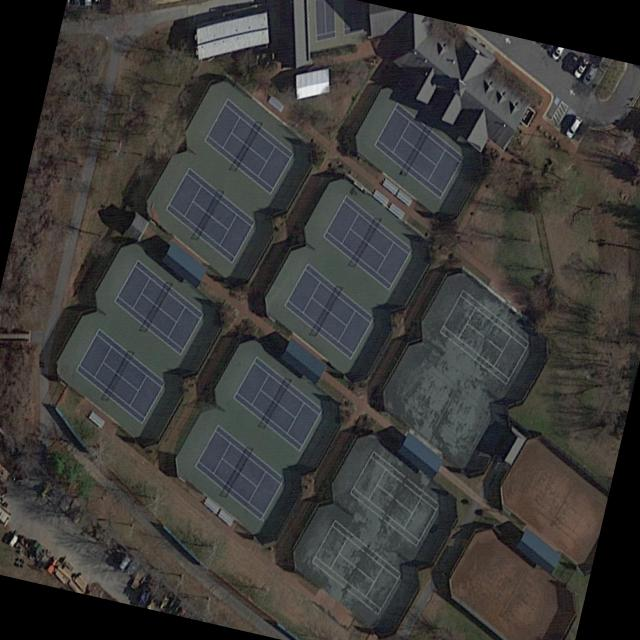small-vehicle: (562, 112, 582, 140), (579, 60, 599, 87), (571, 55, 588, 78), (82, 0, 91, 9), (72, 0, 79, 8)
